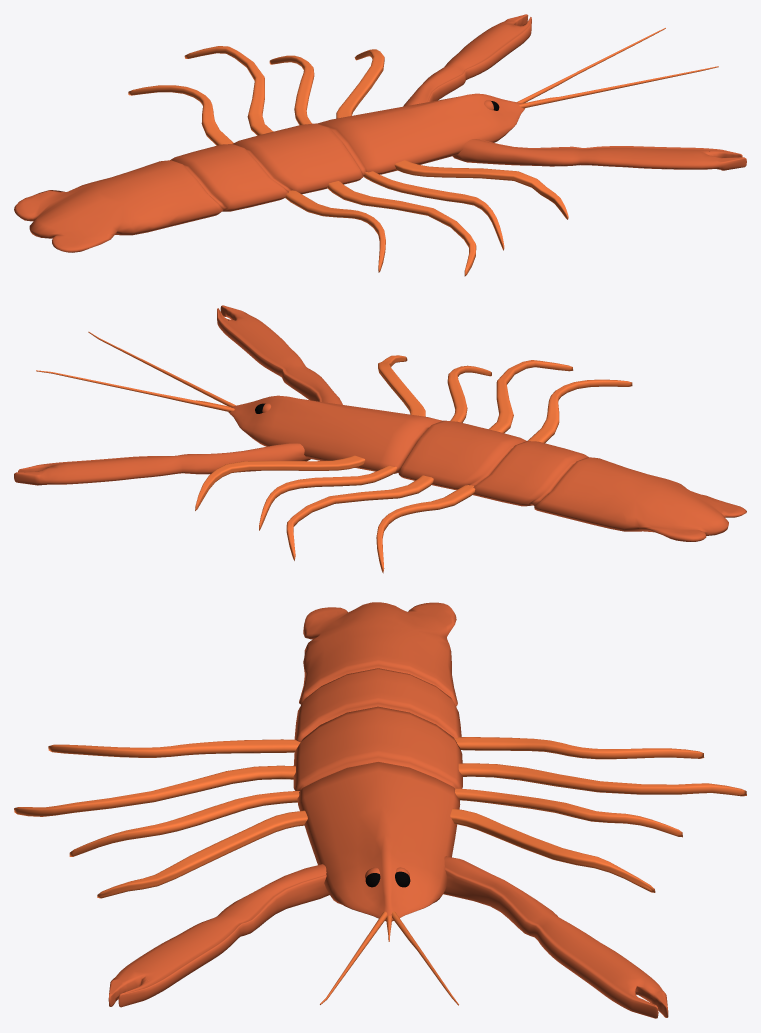
File: 40a07e27-a170-44f6-aae8-6a642178afd2.glb
3 renders of one model, top to bottom at view 1: azimuth 30°, elevation 25°; view 2: azimuth 150°, elevation 25°; view 3: azimuth 270°, elevation 25°, orthographic. The views are drawn at different scales.
Visible parts, largest first — view 1: Line003; view 2: Line003; view 3: Line003.
Part boxes in pixels (x1,y1,x2,y2): Line003: (14,14,746,276); Line003: (14,305,746,573); Line003: (14,602,746,1018).
Bounding box in the file's own units: 70.36 × 5.35 × 51.35.
